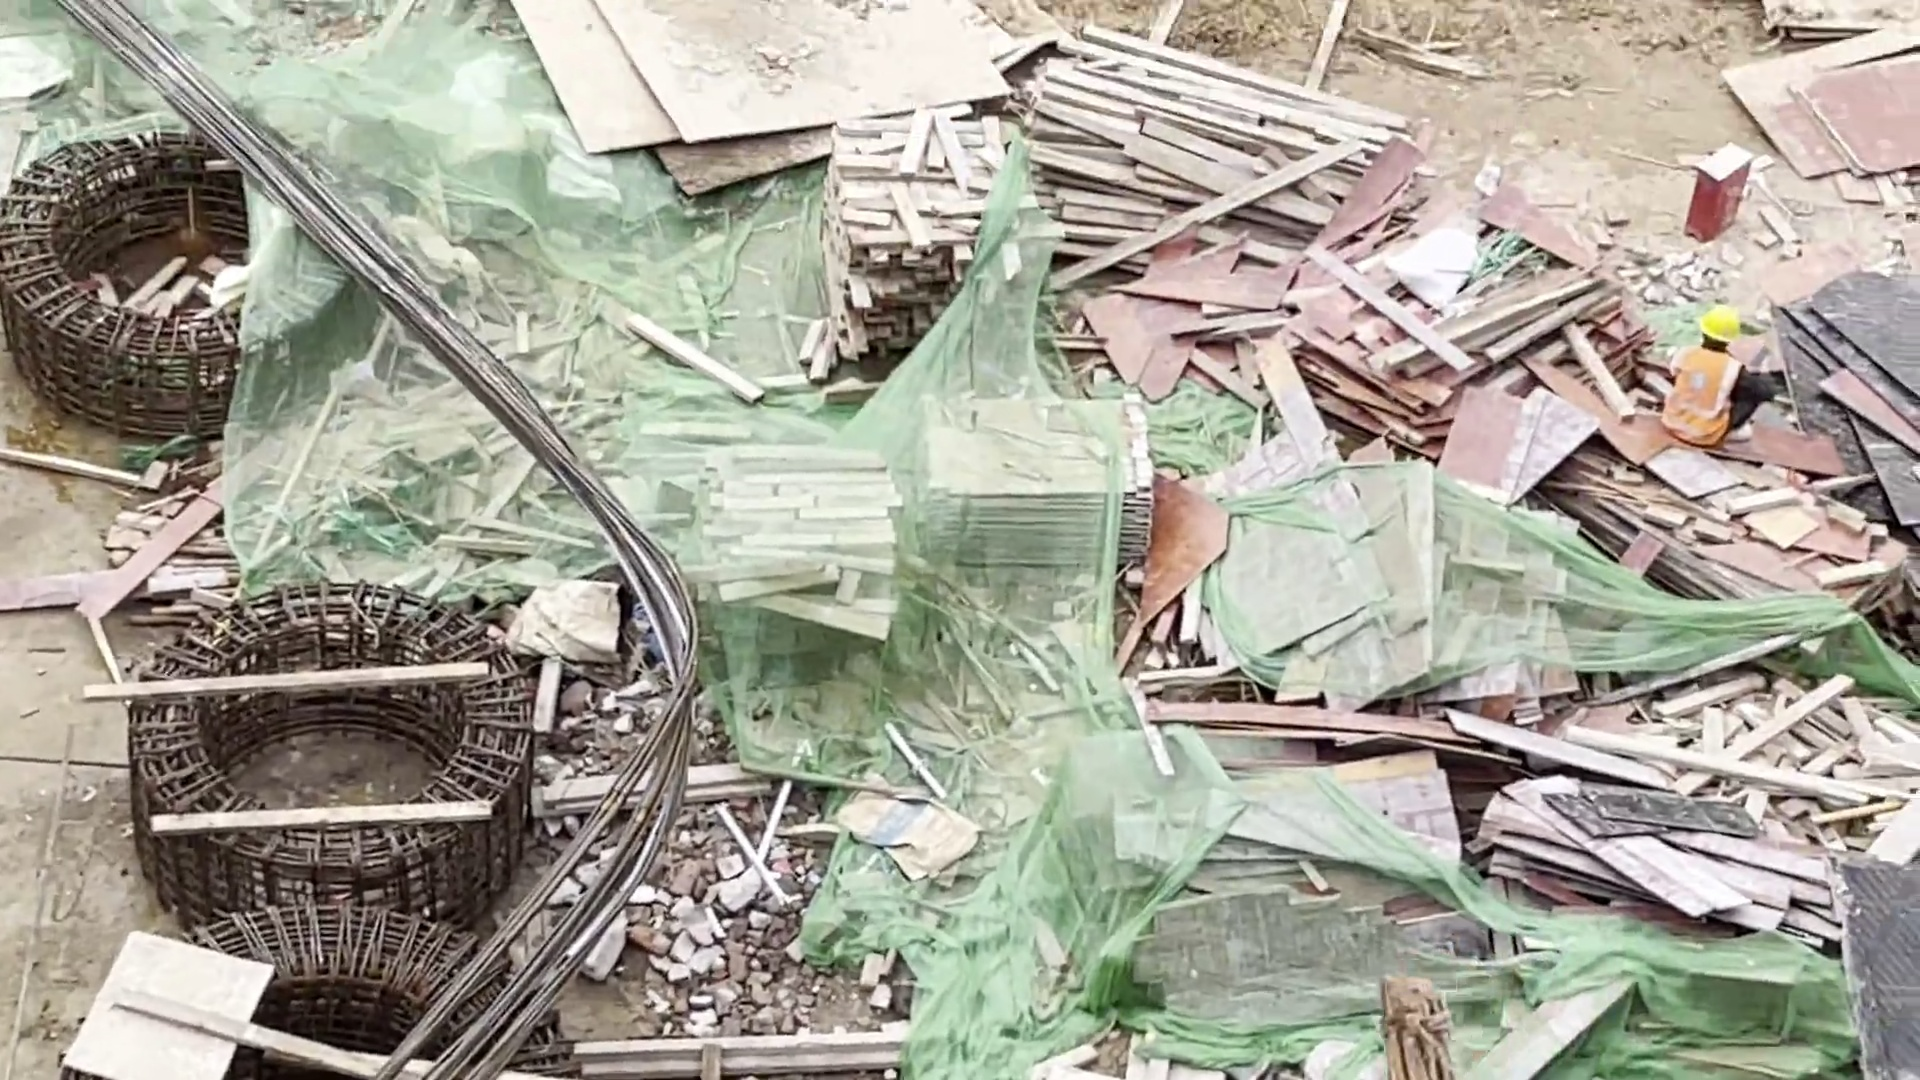helmet: (1699, 303, 1739, 343)
person: (1656, 302, 1773, 456)
vest: (1665, 345, 1740, 445)
wood: (831, 33, 1358, 331), (684, 386, 1157, 639)
